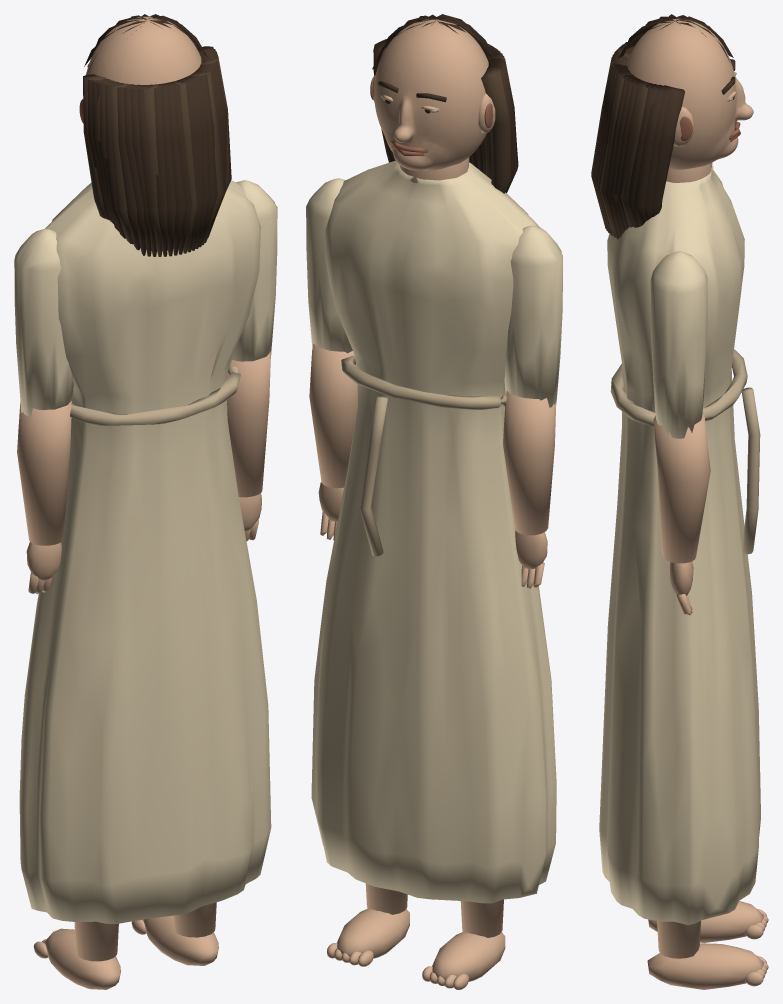
Rendered from woman.glb.
3 views of the same model, side by side, from view 1: azimuth 30°, elevation 25°; view 2: azimuth 150°, elevation 25°; view 3: azimuth 270°, elevation 25° (orthographic). The views are drawn at different scales.
Parts seen in each view (by area): view 1: Robe, LBrow, LSleeve, LArmSkin, HairLock0, Face, RArmSkin, RSleeve, LFootSkin, Sash, RFootSkin, LKnee (+3 smaller); view 2: Robe, Face, LSleeve, LArmSkin, RArmSkin, RSleeve, LBrow, LFootSkin, RFootSkin, HairLock0, Sash, BeltTie (+6 smaller); view 3: Robe, LBrow, Face, RSleeve, RArmSkin, RFootSkin, BeltTie, Sash, LFootSkin, HairLock0, RKnee, RPalm (+1 smaller).
Boxes of the visible parts, left/top/right/bottom form: Robe: left=19, top=180, right=271, bottom=923; LBrow: left=84, top=14, right=231, bottom=256; LSleeve: left=14, top=228, right=73, bottom=416; LArmSkin: left=17, top=401, right=71, bottom=545; HairLock0: left=83, top=58, right=228, bottom=256; Face: left=86, top=16, right=201, bottom=84; RArmSkin: left=226, top=352, right=270, bottom=497; RSleeve: left=229, top=180, right=277, bottom=365; LFootSkin: left=33, top=928, right=120, bottom=989; Sash: left=70, top=366, right=240, bottom=425; RFootSkin: left=131, top=915, right=218, bottom=965; LKnee: left=74, top=921, right=118, bottom=961; Robe: left=311, top=160, right=556, bottom=903; Face: left=374, top=19, right=488, bottom=170; LSleeve: left=504, top=225, right=562, bottom=407; LArmSkin: left=503, top=391, right=556, bottom=535; RArmSkin: left=309, top=343, right=357, bottom=488; RSleeve: left=306, top=178, right=352, bottom=353; LBrow: left=372, top=14, right=518, bottom=192; LFootSkin: left=422, top=932, right=505, bottom=989; RFootSkin: left=327, top=908, right=409, bottom=966; HairLock0: left=481, top=44, right=518, bottom=193; Sash: left=341, top=355, right=506, bottom=409; BeltTie: left=359, top=395, right=387, bottom=556; Robe: left=599, top=165, right=760, bottom=924; LBrow: left=591, top=14, right=735, bottom=239; Face: left=627, top=18, right=753, bottom=169; RSleeve: left=650, top=251, right=707, bottom=438; RArmSkin: left=653, top=412, right=710, bottom=563; RFootSkin: left=647, top=943, right=768, bottom=989; BeltTie: left=741, top=387, right=760, bottom=554; Sash: left=610, top=349, right=747, bottom=426; LFootSkin: left=648, top=901, right=768, bottom=942; HairLock0: left=591, top=47, right=648, bottom=237; RKnee: left=657, top=921, right=700, bottom=958; RPalm: left=670, top=561, right=693, bottom=615.
Size of the model in its own units: 0.3415 by 1.22 by 0.2079.
